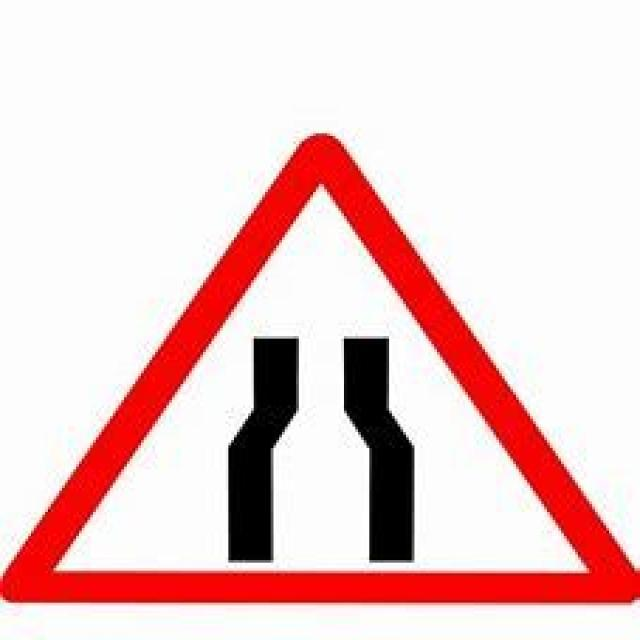narrow road ahead: (20, 137, 620, 600)
